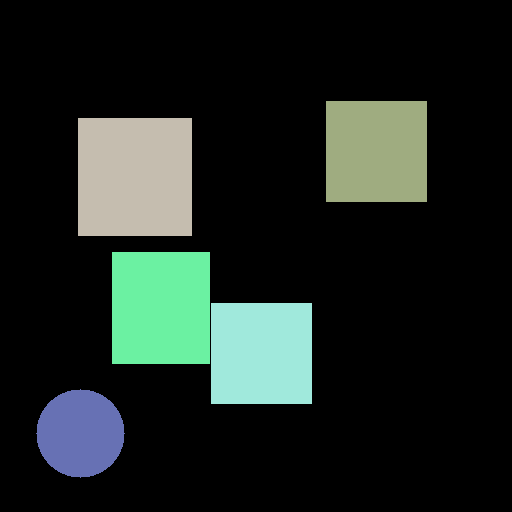circle: (36, 389, 124, 477)
rectangle: (112, 252, 209, 363)
square: (78, 118, 191, 235), (211, 303, 311, 403), (326, 101, 426, 201)
